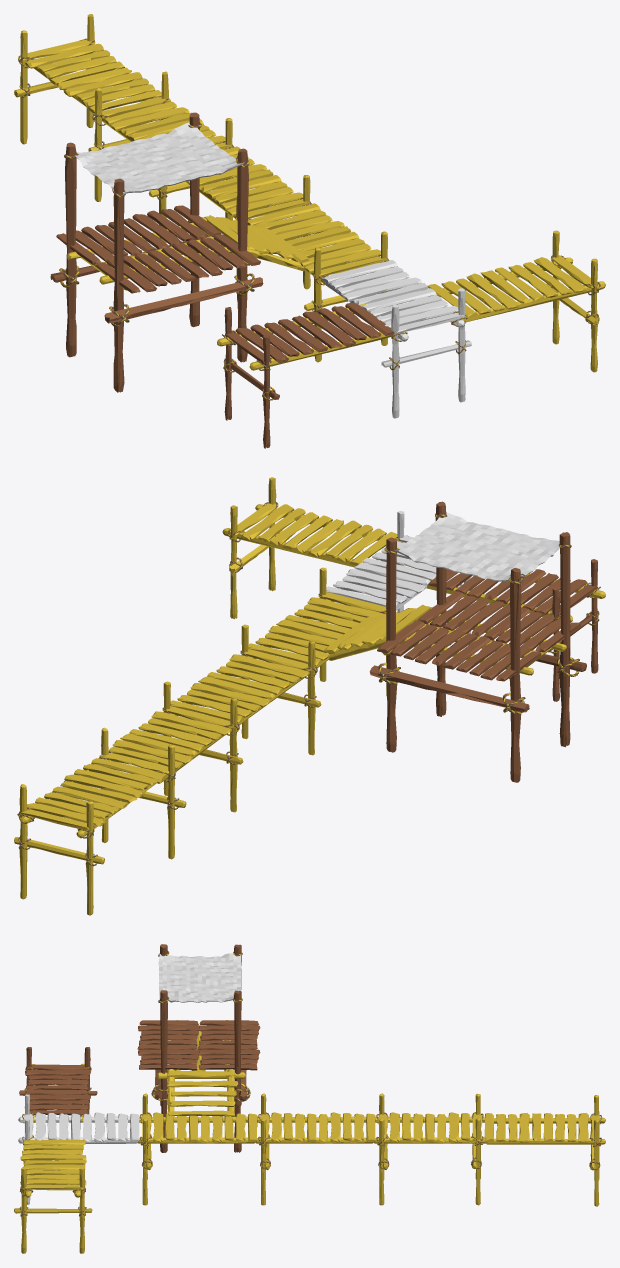
The model's file is Sea Of Thieves Dock.fbx.
3 views of the same model, one above another, from view 1: azimuth 30°, elevation 25°; view 2: azimuth 150°, elevation 25°; view 3: azimuth 270°, elevation 25° (orthographic). The views are drawn at different scales.
Parts seen in each view (by area): view 1: Dock_Main, Tarp_Part, Dock_Tile_Part, Pillar_Part; view 2: Dock_Main, Tarp_Part, Dock_Tile_Part; view 3: Dock_Main, Tarp_Part, Dock_Tile_Part, Pillar2_Part.
Boxes of the visible parts, box(x1,y1,x2,y2) form: Dock_Main: box(14, 14, 605, 448); Tarp_Part: box(75, 122, 244, 193); Dock_Tile_Part: box(321, 260, 464, 333); Pillar_Part: box(381, 288, 471, 418); Dock_Main: box(14, 477, 605, 915); Tarp_Part: box(392, 512, 559, 581); Dock_Tile_Part: box(326, 535, 436, 607); Dock_Main: box(14, 944, 605, 1253); Tarp_Part: box(158, 953, 241, 1002); Dock_Tile_Part: box(24, 1112, 139, 1142); Pillar2_Part: box(18, 1116, 137, 1143).
Bounding box in the file's own units: 21223 × 10688 × 34490.
